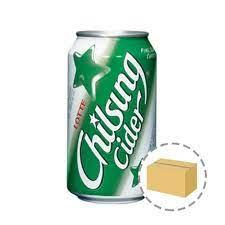chilsungcider: (60, 29, 168, 206)
